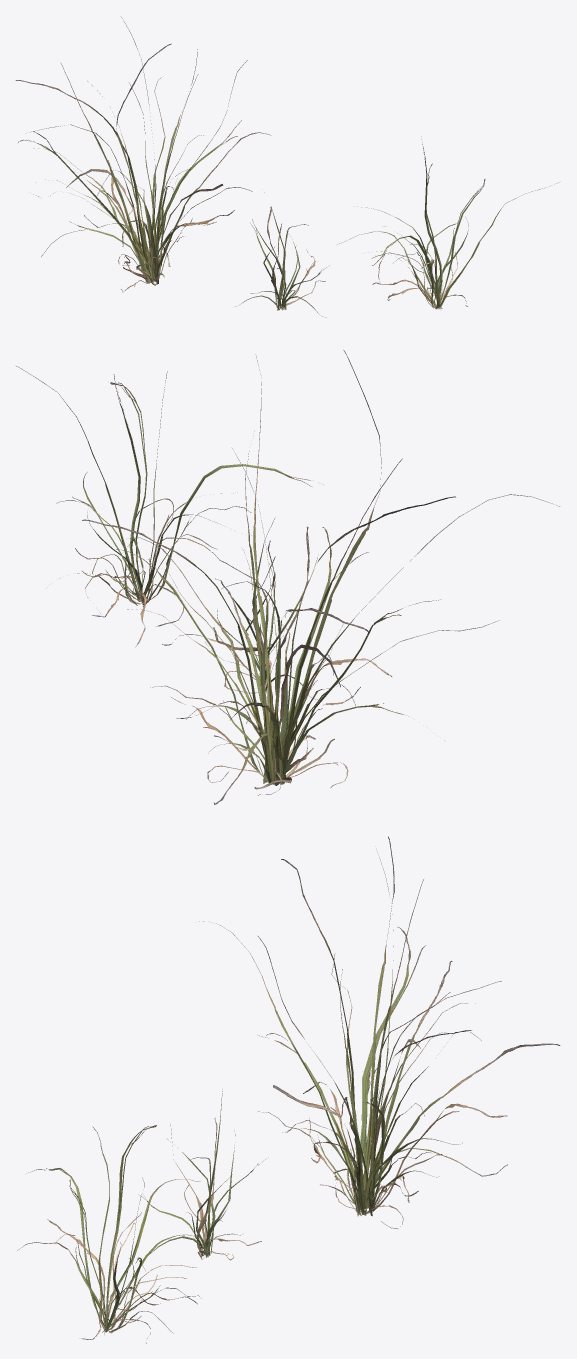
Rendered from grass_medium_02.glb.
3 views of the same model, one above another, from view 1: azimuth 30°, elevation 25°; view 2: azimuth 150°, elevation 25°; view 3: azimuth 270°, elevation 25° (orthographic). The views are drawn at different scales.
Parts seen in each view (by area): view 1: grass_medium_02_a; view 2: grass_medium_02_a; view 3: grass_medium_02_a.
Boxes of the visible parts, box(x1,y1,x2,y2) form: grass_medium_02_a: box(15, 17, 558, 317); grass_medium_02_a: box(16, 350, 559, 804); grass_medium_02_a: box(17, 836, 560, 1343).
Bounding box in the file's own units: 0.574 × 0.3448 × 0.487.
Materials: 1 (1 with a texture image).
